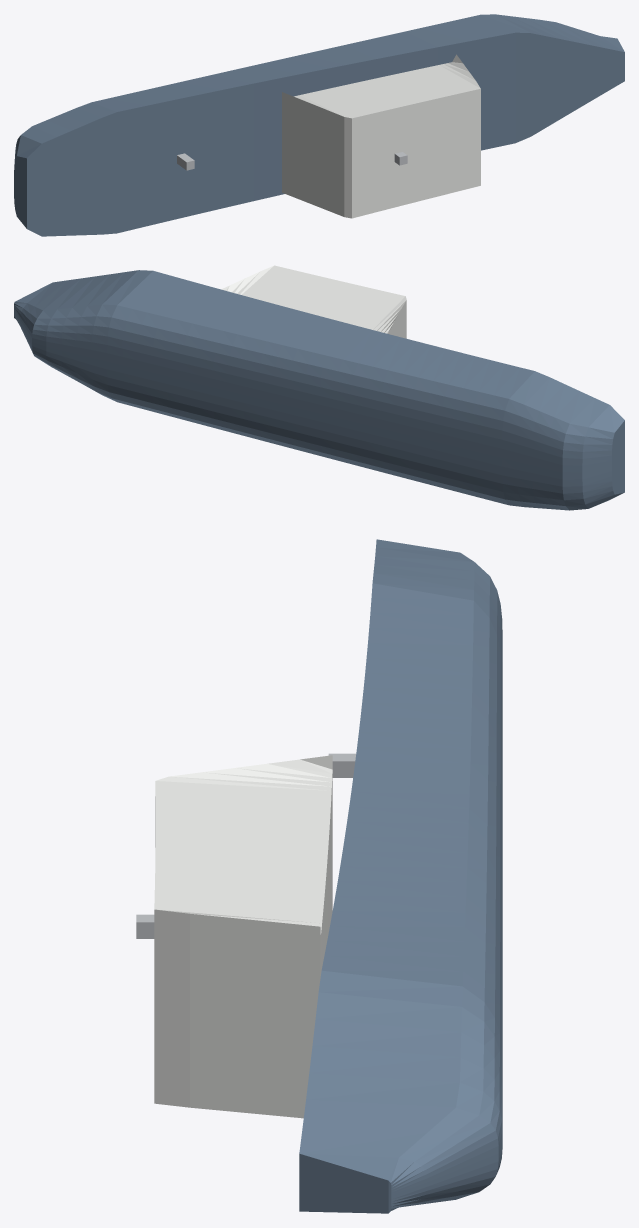
The model's file is loft-tug-slender.glb.
3 views of the same model, one above another, from view 1: azimuth 30°, elevation 25°; view 2: azimuth 150°, elevation 25°; view 3: azimuth 270°, elevation 25° (orthographic). The views are drawn at different scales.
Visible parts, largest first — view 1: loft-tug-slender; view 2: loft-tug-slender; view 3: loft-tug-slender.
Part boxes in pixels (bbox=[...]): loft-tug-slender: bbox=[14, 14, 624, 236]; loft-tug-slender: bbox=[14, 265, 624, 510]; loft-tug-slender: bbox=[136, 539, 502, 1213].
Bounding box in the file's own units: 1.8 × 0.3517 × 0.481.
